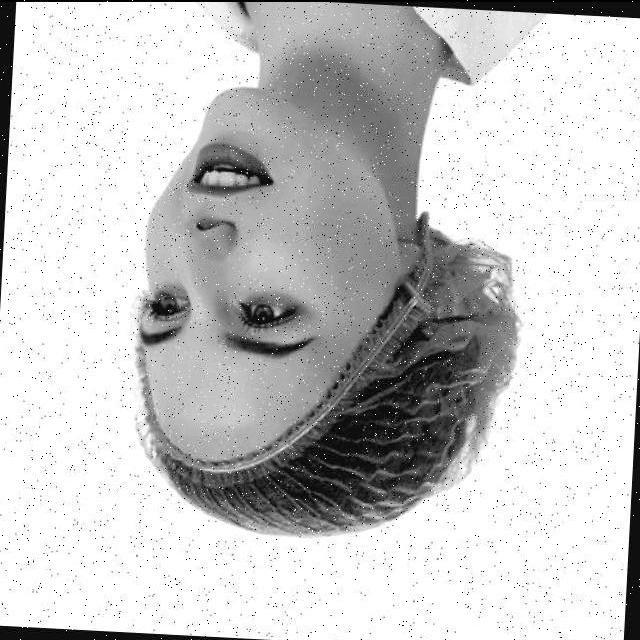gloves: (156, 352, 531, 542)
no_hairnet: (182, 110, 318, 302)
